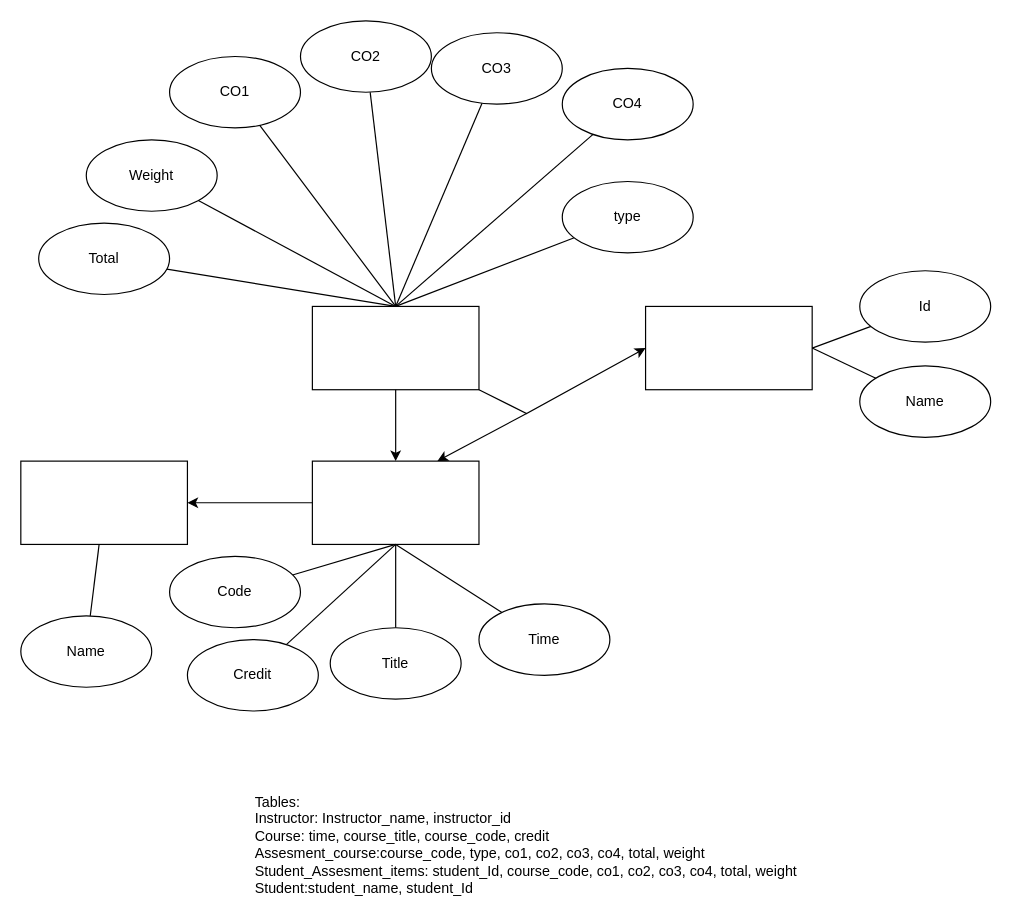
This 1012x917 diagram has some shape labels left out. The centre of each missing label's shape, as x and y in pixels:
"Assessment i tems" goes at pixel 395 347.
"Course" goes at pixel 395 502.
"Instructor" goes at pixel 103 502.
"Student" goes at pixel 728 347.
